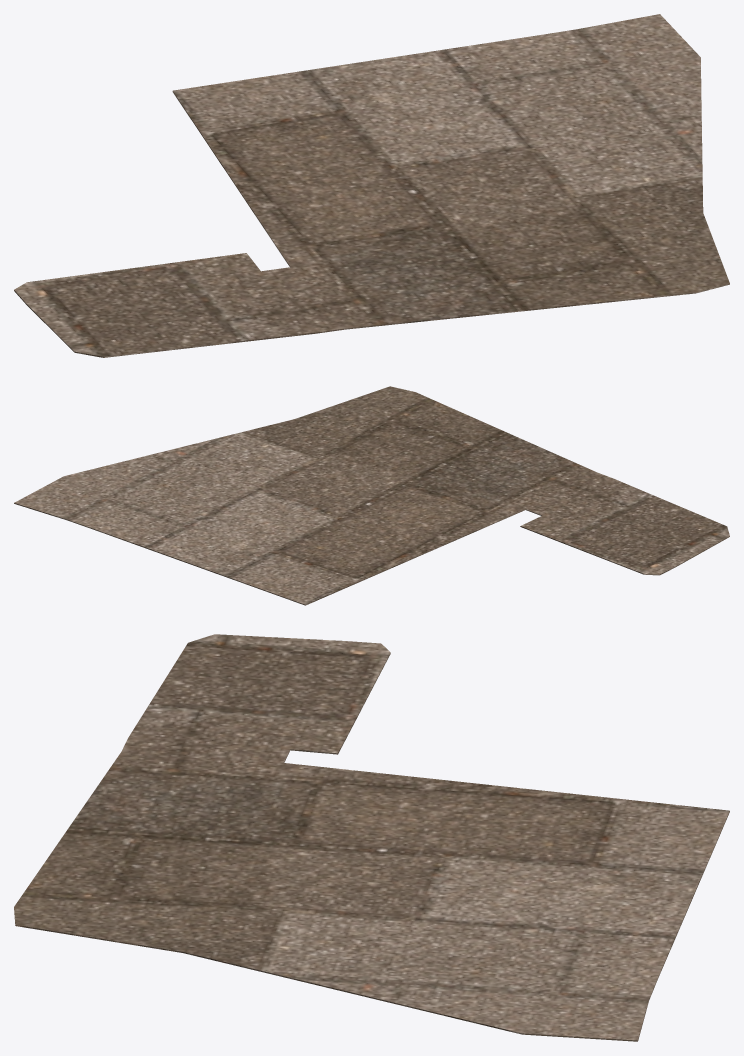
Rendered from StationUnderSideWalkFix.fbx.
3 renders of one model, top to bottom at view 1: azimuth 30°, elevation 25°; view 2: azimuth 150°, elevation 25°; view 3: azimuth 270°, elevation 25°, orthographic. The views are drawn at different scales.
Visible parts, largest first — view 1: Sidewalk.020; view 2: Sidewalk.020; view 3: Sidewalk.020.
Boxes of the visible parts, x1,y1,x2,y2 form: Sidewalk.020: [14, 14, 729, 357]; Sidewalk.020: [14, 386, 729, 605]; Sidewalk.020: [14, 634, 729, 1041].
Size of the model in its own units: 38388 by 55.27 by 28589.
